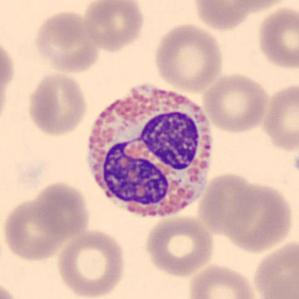Eosinophil: (76, 72, 221, 230)
RBC: (1, 188, 76, 264), (220, 179, 295, 254), (151, 21, 226, 93), (54, 227, 128, 298), (143, 213, 217, 279), (200, 70, 271, 134), (32, 9, 100, 74), (25, 70, 89, 138), (197, 170, 261, 236), (32, 180, 92, 238), (82, 0, 146, 53), (250, 238, 298, 298), (185, 261, 260, 299), (255, 5, 298, 71), (259, 81, 298, 153), (191, 0, 255, 31), (192, 0, 290, 20), (0, 34, 17, 128), (227, 0, 294, 13), (0, 277, 21, 299)
